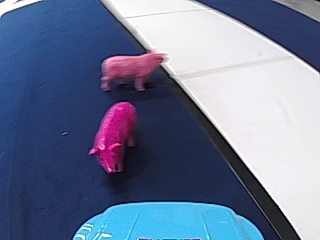pig: (88, 97, 135, 175), (98, 47, 164, 90)
